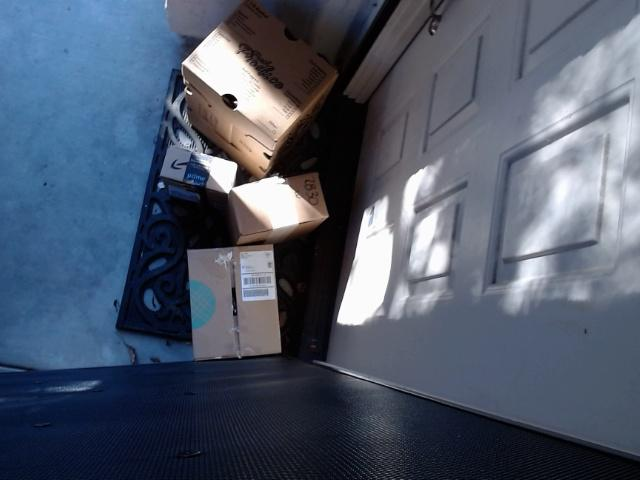box: (180, 0, 338, 179), (186, 245, 281, 361), (227, 171, 329, 246), (158, 144, 237, 212)
